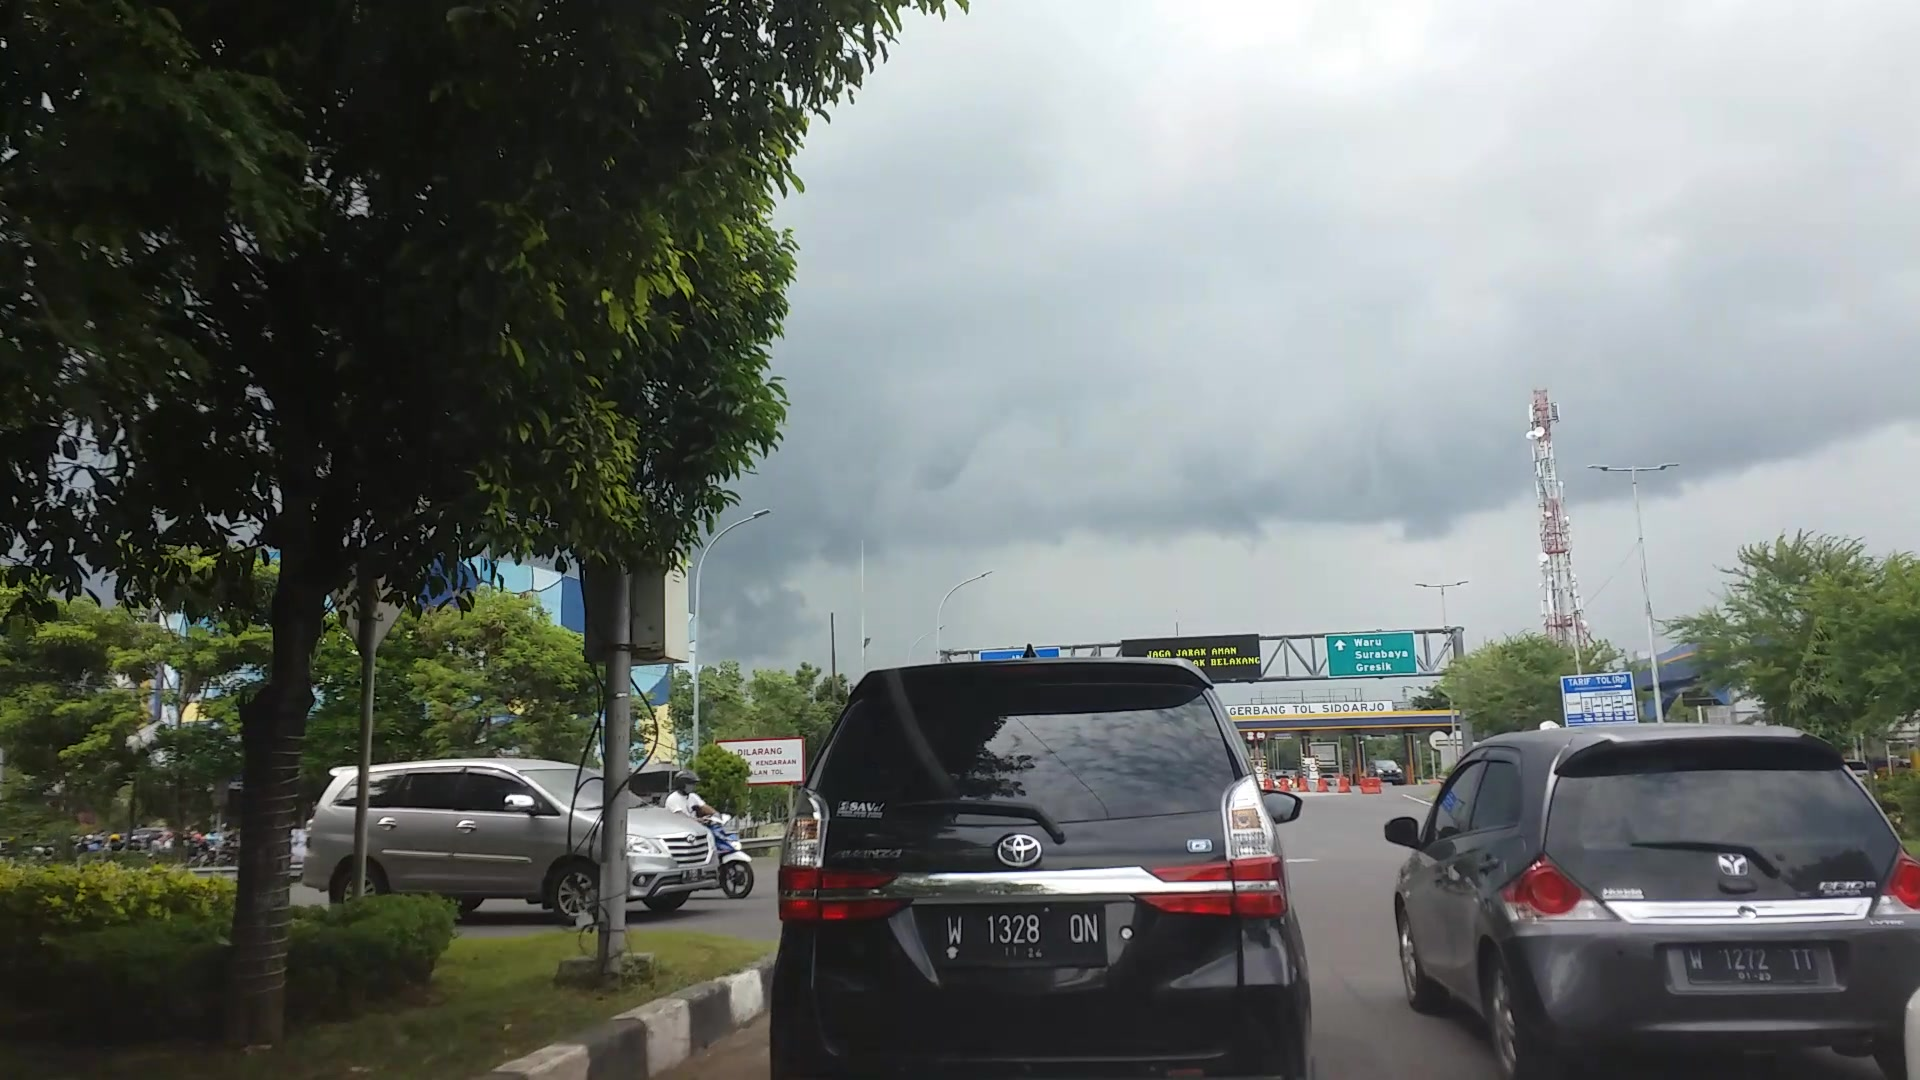plate_positive: (938, 905, 1108, 969), (1683, 943, 1818, 986)
